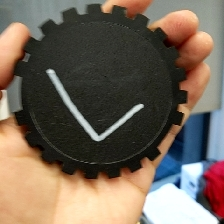gear: (12, 3, 189, 180)
missing: (146, 110, 185, 162), (13, 59, 29, 126)
